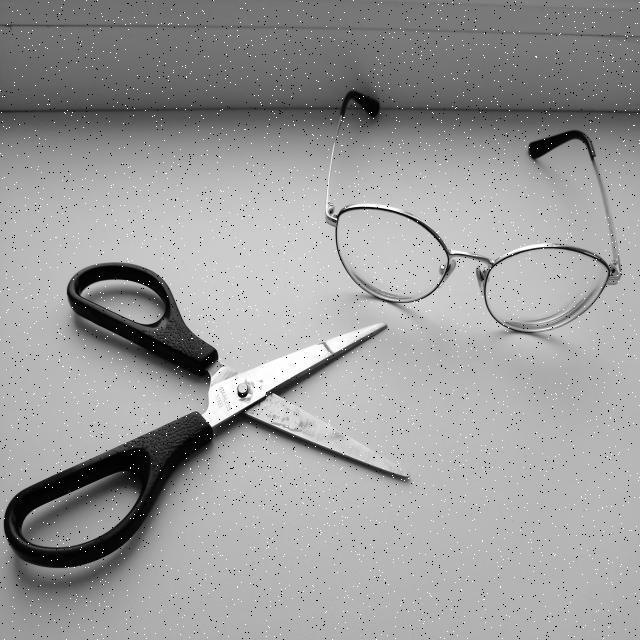scissors: (0, 0, 606, 415)
